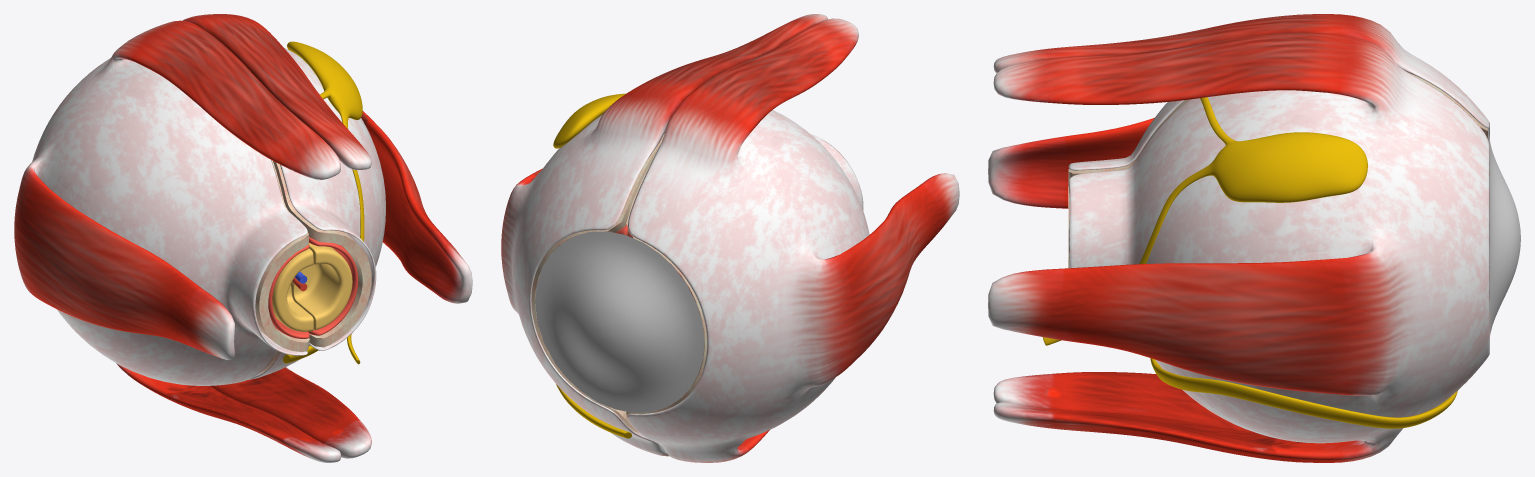
The model's file is OJO_Catarata.fbx.
The picture shows the model from 3 angles, left to right: view 1: azimuth 30°, elevation 25°; view 2: azimuth 150°, elevation 25°; view 3: azimuth 270°, elevation 25°; orthographic projection. The views are drawn at different scales.
Parts seen in each view (by area): view 1: capa1_izquierda, capa1_derecha, capa4_derecha, lagrimal, capa2_derecha, capa2_izquierda, capa4_izquierda, capa3_derecha, capa3_izquierda; view 2: capa1_izquierda, retina, capa1_derecha, lagrimal, capa2_derecha, capa2_izquierda; view 3: capa1_derecha, capa1_izquierda, lagrimal, retina, capa2_izquierda.
Boxes of the visible parts, x1=… form: capa1_izquierda: x1=14, y1=20, x2=340, y2=462; capa1_derecha: x1=183, y1=14, x2=472, y2=458; capa4_derecha: x1=290, y1=243, x2=352, y2=330; lagrimal: x1=283, y1=41, x2=364, y2=364; capa2_derecha: x1=260, y1=161, x2=371, y2=372; capa2_izquierda: x1=255, y1=160, x2=309, y2=351; capa4_izquierda: x1=272, y1=248, x2=313, y2=331; capa3_derecha: x1=308, y1=237, x2=358, y2=335; capa3_izquierda: x1=268, y1=244, x2=309, y2=338; capa1_izquierda: x1=627, y1=18, x2=959, y2=462; retina: x1=535, y1=231, x2=704, y2=412; capa1_derecha: x1=501, y1=14, x2=827, y2=456; lagrimal: x1=553, y1=93, x2=631, y2=438; capa2_derecha: x1=531, y1=134, x2=664, y2=432; capa2_izquierda: x1=626, y1=166, x2=706, y2=417; capa1_derecha: x1=988, y1=32, x2=1490, y2=462; capa1_izquierda: x1=988, y1=14, x2=1489, y2=433; lagrimal: x1=1042, y1=97, x2=1457, y2=428; retina: x1=1488, y1=130, x2=1520, y2=334; capa2_izquierda: x1=1068, y1=72, x2=1487, y2=267.
Size of the model in its own units: 223 by 224 by 259.
11 materials, 6 textured.
